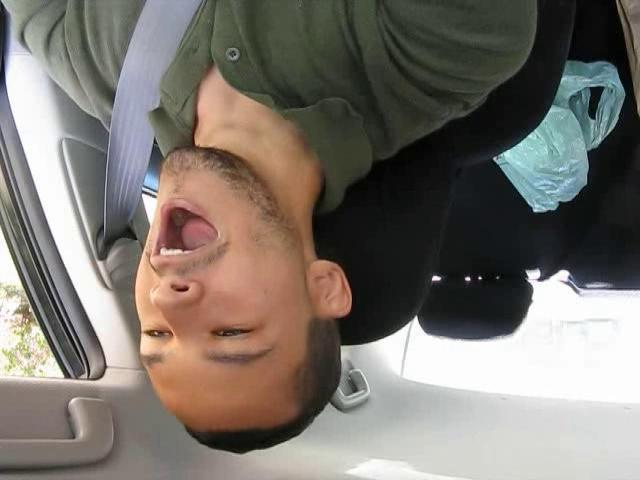eye_open: (208, 318, 262, 344), (141, 323, 174, 345)
face: (133, 149, 297, 386)
mouth_open: (151, 196, 218, 262)
